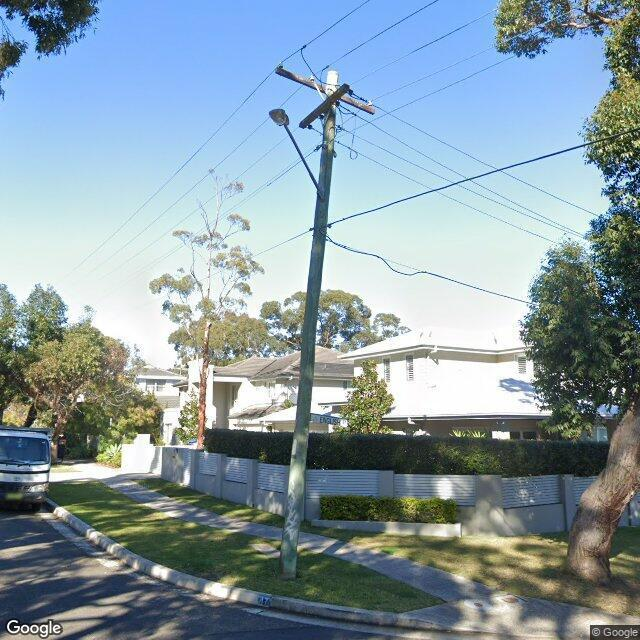crossarm: (277, 64, 376, 116), (298, 84, 350, 130)
streetlight: (268, 108, 326, 198)
timber-pole: (282, 71, 341, 578)
